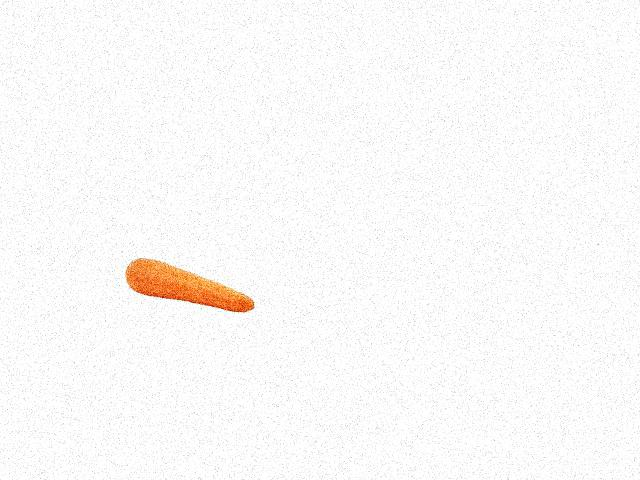carrot: (116, 255, 255, 316)
